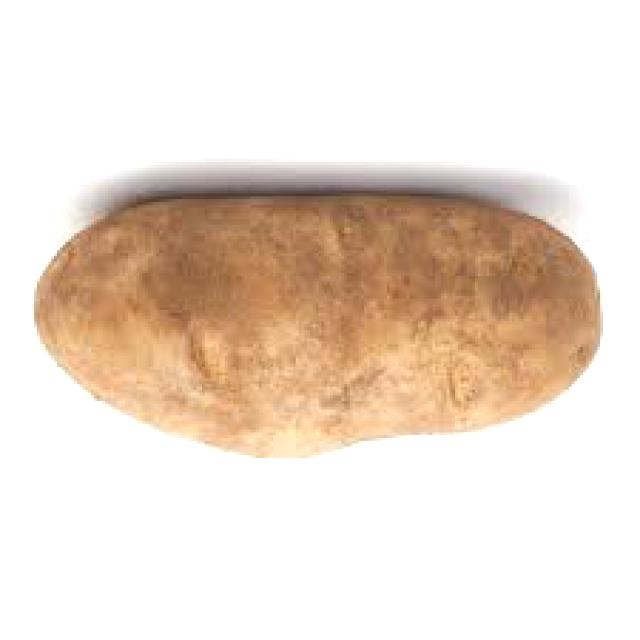potato: (35, 198, 604, 460)
